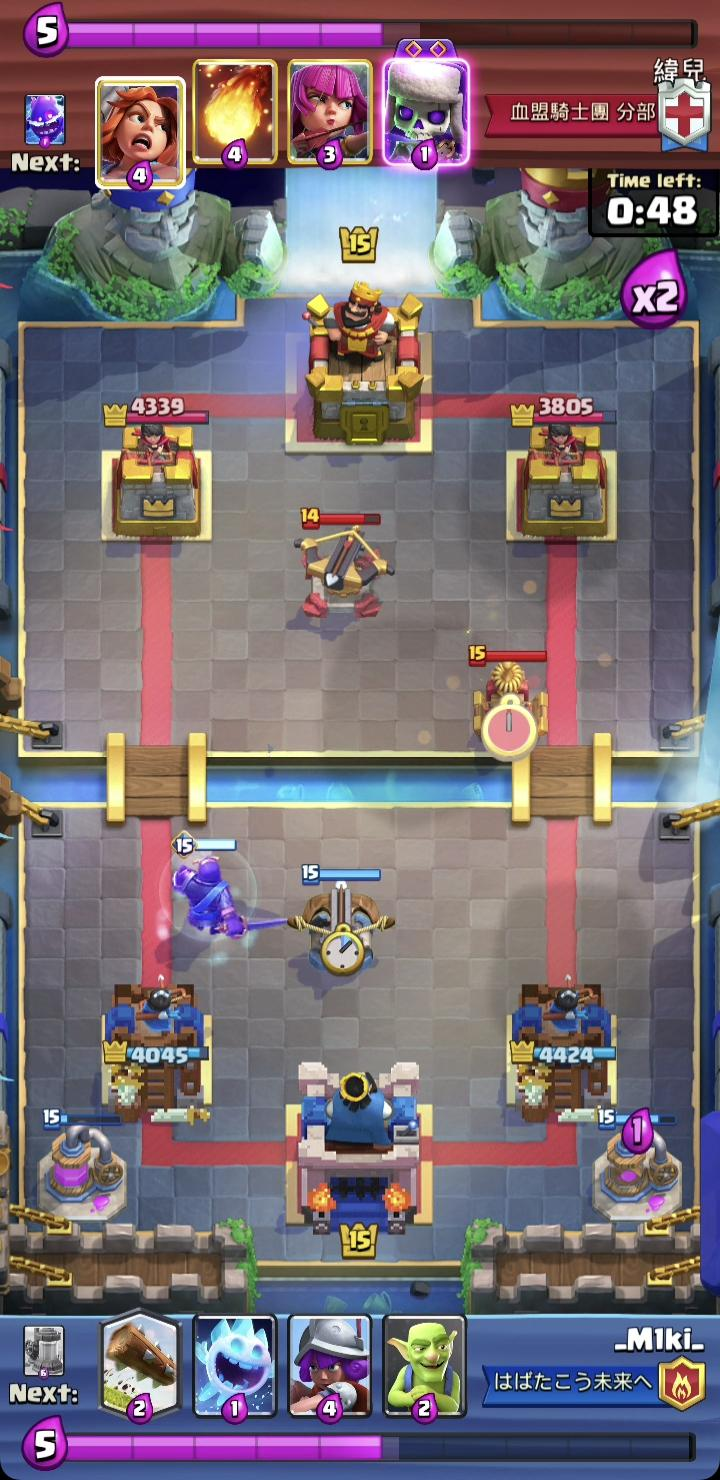ally_elixirpump: (591, 1106, 686, 1225), (35, 1108, 129, 1226)
ally_knight_evo: (162, 833, 290, 947)
ally_xbow: (286, 863, 400, 978)
enemy_tesla: (468, 642, 547, 747)
enemy_xbow: (291, 508, 397, 619)
